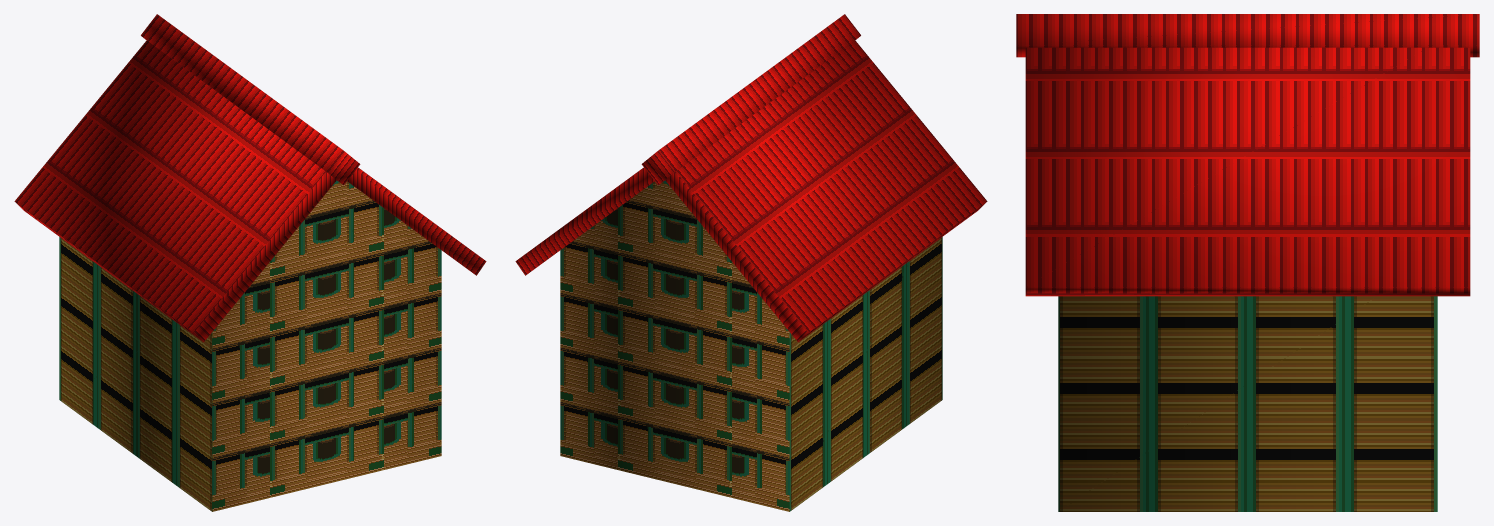
3 views of the same model, side by side, from view 1: azimuth 30°, elevation 25°; view 2: azimuth 150°, elevation 25°; view 3: azimuth 270°, elevation 25° (orthographic). The views are drawn at different scales.
Visible parts, largest first — view 1: 3743kg_ga_02; view 2: 3743kg_ga_02; view 3: 3743kg_ga_02.
Boxes of the visible parts, x1,y1,x2,y2 form: 3743kg_ga_02: [14, 14, 486, 511]; 3743kg_ga_02: [515, 14, 987, 511]; 3743kg_ga_02: [1016, 14, 1479, 511].
Size of the model in its own units: 0.8784 by 0.9915 by 0.9707.
3 materials, 3 textured.
